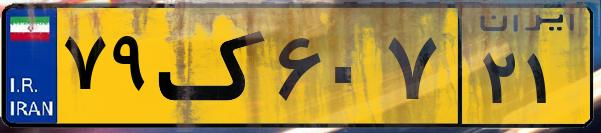0: (330, 28, 385, 110)
1: (525, 38, 570, 115)
2: (475, 38, 525, 113)
6: (270, 28, 330, 110)
7: (385, 28, 445, 110), (57, 26, 110, 100)
9: (110, 28, 158, 98)
ک: (158, 12, 270, 120)
